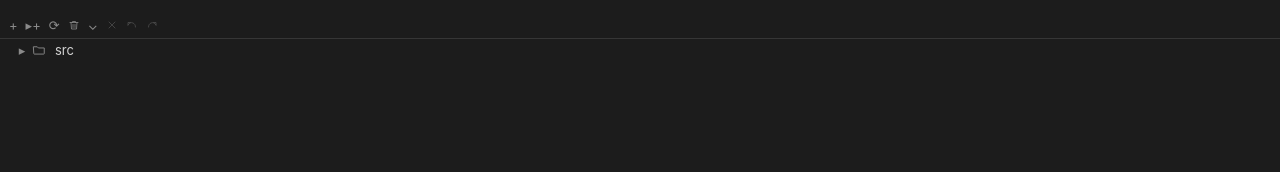
Test case: Explorer › does not move a folder into its own descendant
This screenshot has width=1280, height=172.
Click the text "src".
click(64, 50)  # box x1=55 y1=42 x2=74 y2=58
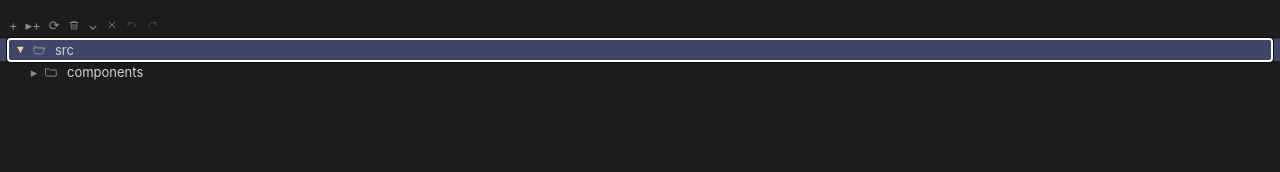
Check: the text "components" is shown, box x1=67 y1=64 x2=143 y2=80
